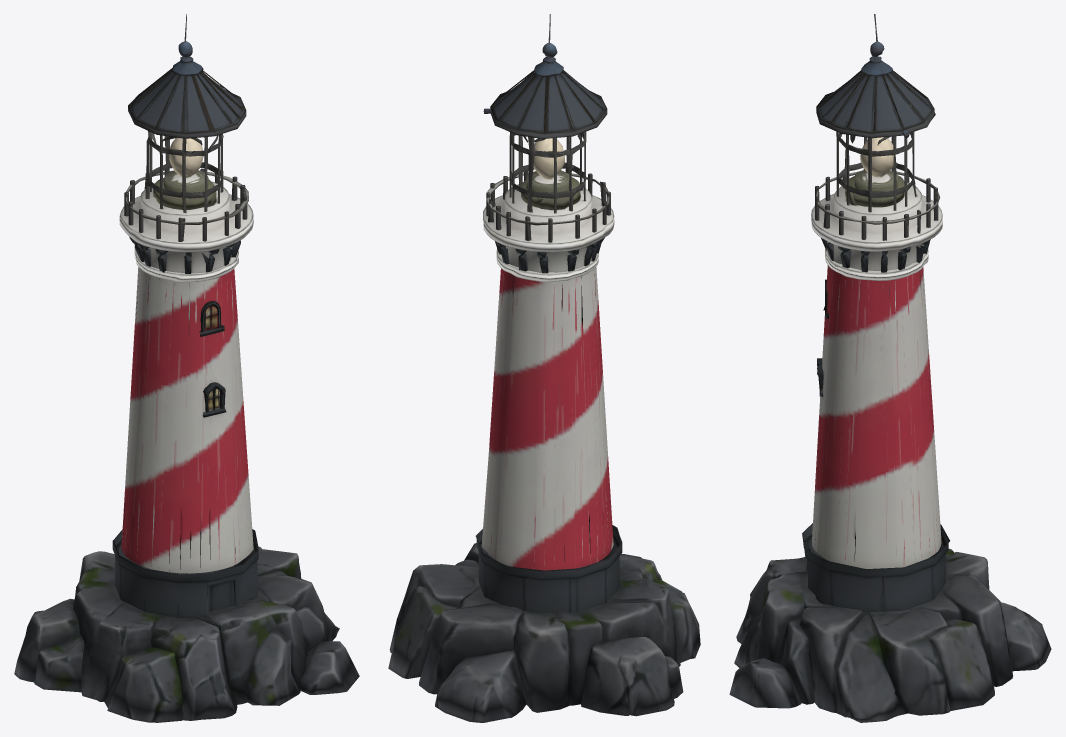
Rendered from lighthouse.glb.
The picture shows the model from 3 angles, left to right: view 1: azimuth 30°, elevation 25°; view 2: azimuth 150°, elevation 25°; view 3: azimuth 270°, elevation 25°; orthographic projection.
Visible parts, largest first — view 1: geometry_0; view 2: geometry_0; view 3: geometry_0.
Part boxes in pixels (<box>): geometry_0: <box>14,14,359,722</box>; geometry_0: <box>388,14,700,722</box>; geometry_0: <box>729,14,1051,722</box>.
Bounding box in the file's own units: 0.4507 × 0.9521 × 0.4351.
1 material, 1 textured.
